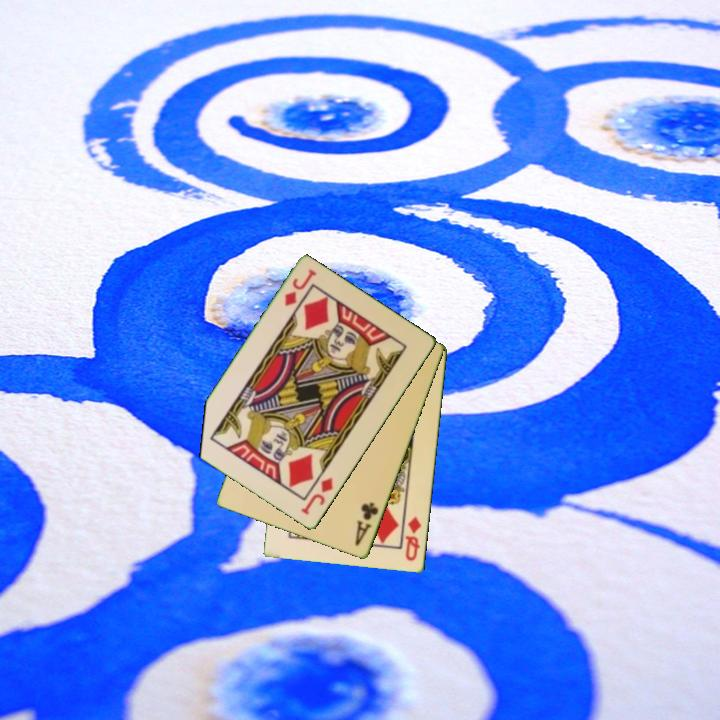Ac: (351, 499, 382, 549)
Jd: (297, 474, 336, 518), (281, 266, 320, 310)
Qd: (402, 513, 425, 564)
